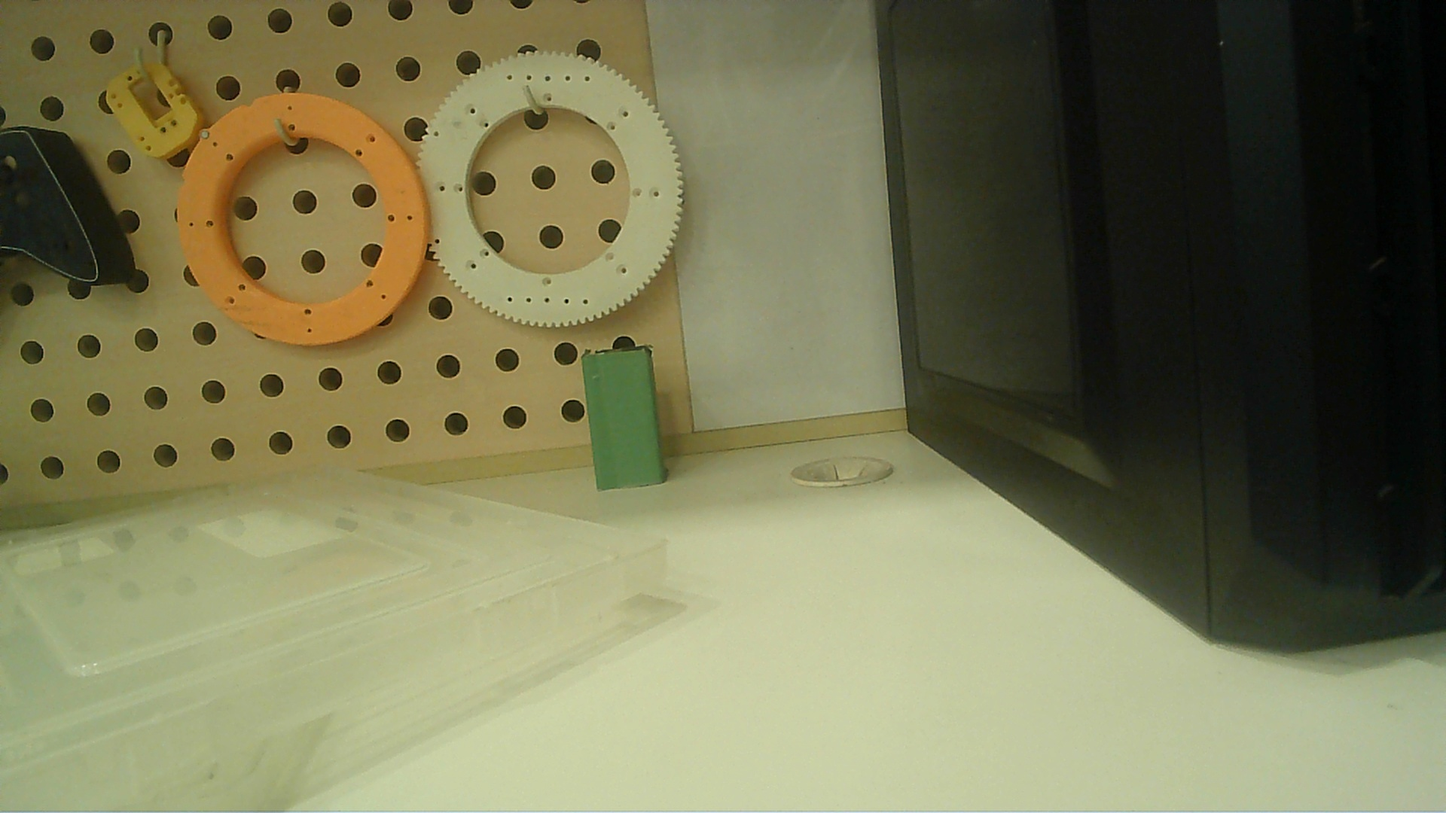green: (585, 342, 654, 492)
